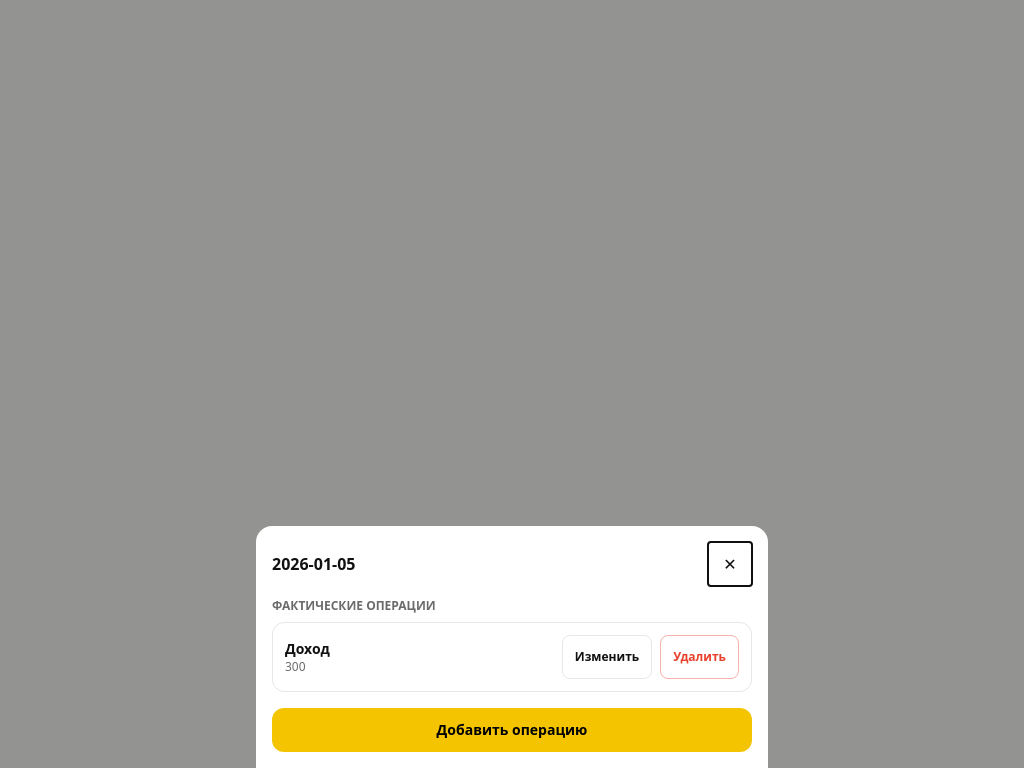
Test: DayDetailSheet › requires confirmation before deleting a one-time transaction
What coordinates should you click on to do the following:
click the button "Удалить"
I would click on:
 (700, 657)
Its box is [660,635,739,679].
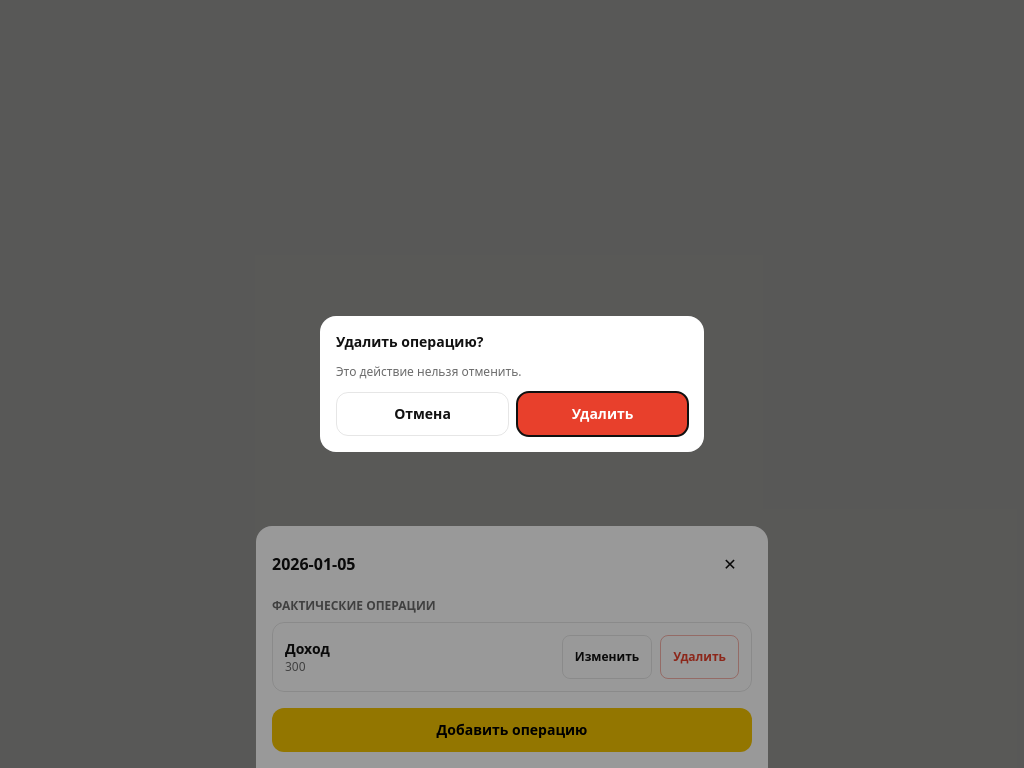
Now the dialog "Удалить операцию" is shown
